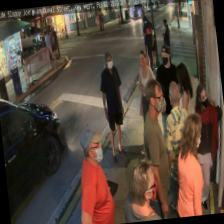person: (136, 78, 178, 220), (185, 81, 224, 208), (168, 111, 212, 216), (70, 125, 116, 224), (152, 43, 188, 163), (96, 50, 130, 163), (131, 49, 163, 156)
